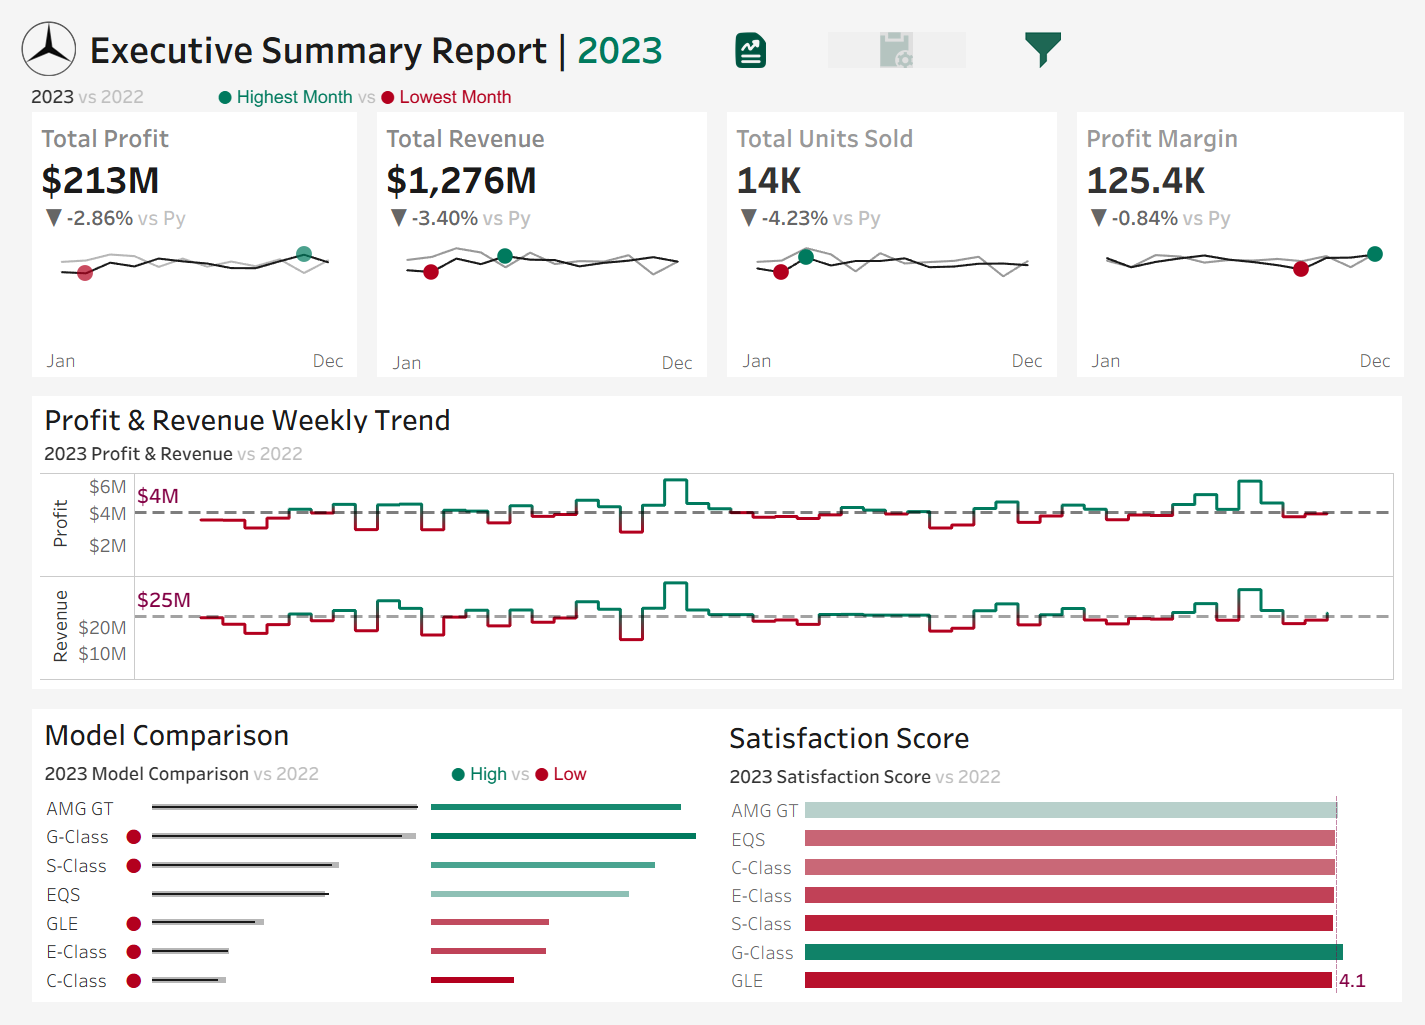

The page's visual inventory and layout, read from the dashboard file:
{"tool":"tableau","page":{"name":"Dashboard 1","canvas":[1400,1000],"ordinal":0},"visuals":[{"type":"image","param":"D:/Workbooks/Vector.png","box":[0,0,64,63]},{"type":"text","box":[64,0,898,63]},{"type":"text","box":[1150,1,244,47]},{"type":"dashboard-object","box":[661,11,146,44]},{"type":"dashboard-object","box":[807,11,146,44]},{"type":"dashboard-object","box":[953,11,146,44]},{"type":"parameter","param":"[Parameters].[Parameter 1]","box":[1150,48,244,62]},{"type":"worksheet","title":"KPI legend","mark":"Automatic","box":[0,63,1400,32]},{"type":"worksheet","title":"KPI(Total Profit-CY)","mark":"Automatic","rows":["Calculation_1208144547569671"],"cols":["order_date"],"box":[0,95,350,275]},{"type":"worksheet","title":"KPI(Total Revenue-CY)","mark":"Automatic","rows":["Min/Max Profit (copy)_1208144576655382"],"cols":["order_date"],"box":[350,95,350,275]},{"type":"worksheet","title":"KPI(Units Sold-CY)","mark":"Automatic","rows":["Min/Max Revenue (copy)_1039646237425667"],"cols":["order_date"],"box":[700,95,350,275]},{"type":"worksheet","title":"KPI(Profit Margin-CY)","mark":"Automatic","rows":["Min/Max Revenue (copy)_1301055329169414"],"cols":["order_date"],"box":[1050,95,350,275]},{"type":"text","box":[1150,110,244,38]},{"type":"filter","title":"KPI(Total Profit-CY)","param":"[federated.09jrixn1p51if711b2frz14z2pqc].[none:region:nk]","box":[1150,148,244,70]},{"type":"filter","title":"KPI(Total Profit-CY)","param":"[federated.09jrixn1p51if711b2frz14z2pqc].[none:country:nk]","box":[1150,218,244,70]},{"type":"text","box":[1150,288,244,38]},{"type":"filter","title":"KPI(Total Profit-CY)","param":"[federated.09jrixn1p51if711b2frz14z2pqc].[none:sales_channel:nk]","box":[1150,326,244,70]},{"type":"text","box":[19,383,1362,37]},{"type":"filter","title":"KPI(Total Profit-CY)","param":"[federated.09jrixn1p51if711b2frz14z2pqc].[none:market_type:nk]","box":[1150,396,244,70]},{"type":"worksheet","title":"legend line chart","mark":"Automatic","box":[19,420,1362,32]},{"type":"worksheet","title":"P&R Weekly Trend","mark":"Automatic","rows":["Calculation_1208144538226688","CY Profit (copy)_1208144575795220"],"cols":["order_date"],"box":[19,452,1362,216]},{"type":"filter","title":"KPI(Total Profit-CY)","param":"[federated.09jrixn1p51if711b2frz14z2pqc].[none:customer_type:nk]","box":[1150,466,244,70]},{"type":"text","box":[1150,536,244,38]},{"type":"filter","title":"KPI(Total Profit-CY)","param":"[federated.09jrixn1p51if711b2frz14z2pqc].[none:segment:nk]","box":[1150,574,244,70]},{"type":"filter","title":"KPI(Total Profit-CY)","param":"[federated.09jrixn1p51if711b2frz14z2pqc].[none:vehicle_type:nk]","box":[1150,644,244,70]},{"type":"text","box":[19,696,677,42]},{"type":"text","box":[704,696,677,47]},{"type":"filter","title":"KPI(Total Profit-CY)","param":"[federated.09jrixn1p51if711b2frz14z2pqc].[none:fuel_type:nk]","box":[1150,714,244,70]},{"type":"worksheet","title":"legend model comparison","mark":"Automatic","box":[19,739.5,403,32.5]},{"type":"worksheet","title":"legend high low ","mark":"Automatic","box":[422,739.5,274,32.5]},{"type":"worksheet","title":"legend satisfaction score","mark":"Automatic","box":[704,743,677,32]},{"type":"worksheet","title":"Model Comparsion","mark":"Bar","rows":["model","Calculation_1301055348858891"],"cols":["CY Profit (copy)_1208144539439107","Calculation_1208144538226688","CY Profit (copy)_1208144575795220"],"box":[19,772,677,209]},{"type":"worksheet","title":"Satisfaction Score","mark":"Bar","rows":["vehicle_type","model"],"cols":["CY Profit (copy)_0983296590856195"],"box":[704,775,677,205.9]}]}

Visuals, with their boxes in screenshot pixels (x1, y1, x2, y2), scaled from the page's 1400x1000 canvas onto the 1425x1025 screenshot:
image: bbox=[0, 0, 65, 65]
text: bbox=[65, 0, 979, 65]
text: bbox=[1171, 1, 1419, 49]
dashboard-object: bbox=[673, 11, 821, 56]
dashboard-object: bbox=[821, 11, 970, 56]
dashboard-object: bbox=[970, 11, 1119, 56]
parameter: bbox=[1171, 49, 1419, 113]
"KPI legend" worksheet: bbox=[0, 65, 1424, 97]
"KPI(Total Profit-CY)" worksheet: bbox=[0, 97, 356, 379]
"KPI(Total Revenue-CY)" worksheet: bbox=[356, 97, 712, 379]
"KPI(Units Sold-CY)" worksheet: bbox=[712, 97, 1069, 379]
"KPI(Profit Margin-CY)" worksheet: bbox=[1069, 97, 1424, 379]
text: bbox=[1171, 113, 1419, 152]
"KPI(Total Profit-CY)" filter: bbox=[1171, 152, 1419, 223]
"KPI(Total Profit-CY)" filter: bbox=[1171, 223, 1419, 295]
text: bbox=[1171, 295, 1419, 334]
"KPI(Total Profit-CY)" filter: bbox=[1171, 334, 1419, 406]
text: bbox=[19, 393, 1406, 430]
"KPI(Total Profit-CY)" filter: bbox=[1171, 406, 1419, 478]
"legend line chart" worksheet: bbox=[19, 430, 1406, 463]
"P&R Weekly Trend" worksheet: bbox=[19, 463, 1406, 685]
"KPI(Total Profit-CY)" filter: bbox=[1171, 478, 1419, 549]
text: bbox=[1171, 549, 1419, 588]
"KPI(Total Profit-CY)" filter: bbox=[1171, 588, 1419, 660]
"KPI(Total Profit-CY)" filter: bbox=[1171, 660, 1419, 732]
text: bbox=[19, 713, 708, 756]
text: bbox=[717, 713, 1406, 762]
"KPI(Total Profit-CY)" filter: bbox=[1171, 732, 1419, 804]
"legend model comparison" worksheet: bbox=[19, 758, 430, 791]
"legend high low " worksheet: bbox=[430, 758, 708, 791]
"legend satisfaction score" worksheet: bbox=[717, 762, 1406, 794]
"Model Comparsion" worksheet (Bar marks): bbox=[19, 791, 708, 1006]
"Satisfaction Score" worksheet (Bar marks): bbox=[717, 794, 1406, 1005]
